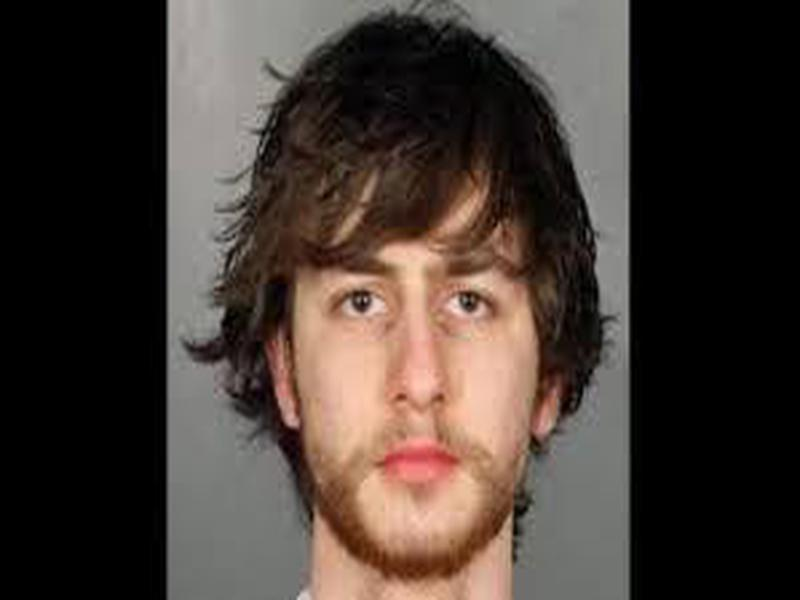without_mask: (289, 221, 540, 582)
